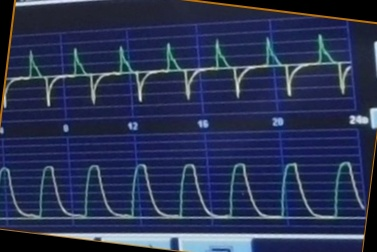Normal Flow: (13, 30, 352, 107)
Normal Volume: (2, 155, 364, 225)
